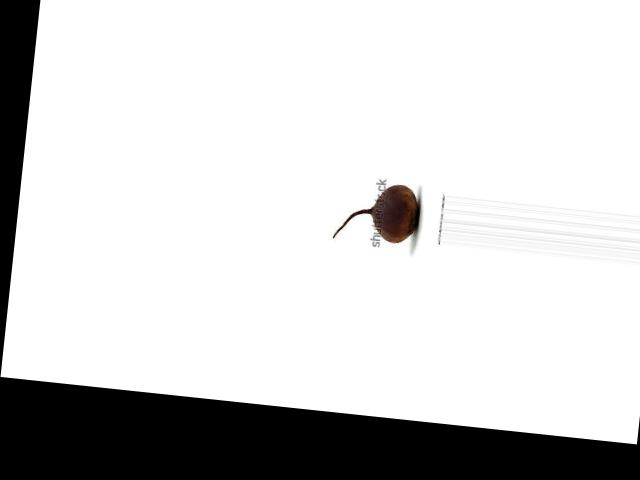beet: (332, 177, 422, 246)
